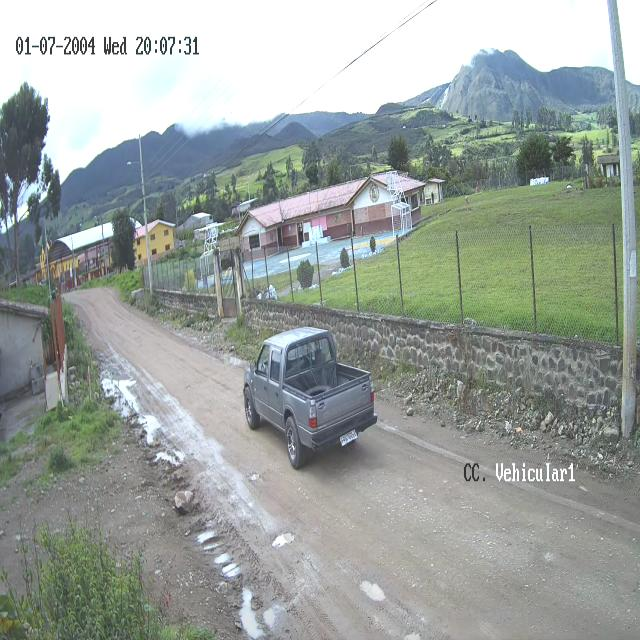CMT: (243, 328, 378, 470)
